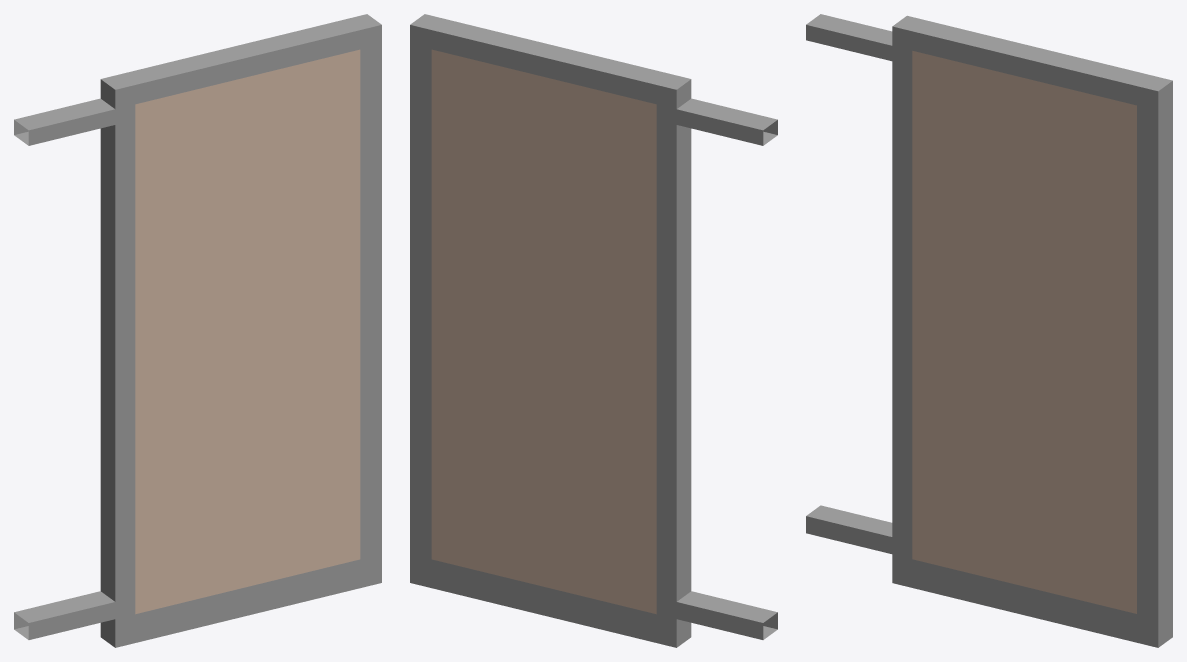
Rendered from entrop_wall_sign_1x1_03_LOD0.fbx.
The picture shows the model from 3 angles, left to right: view 1: azimuth 30°, elevation 25°; view 2: azimuth 150°, elevation 25°; view 3: azimuth 330°, elevation 25°; orthographic projection.
Parts seen in each view (by area): view 1: billboard02; view 2: billboard02; view 3: billboard02.
Boxes of the visible parts, left/top/right/bottom form: billboard02: left=14, top=14, right=381, bottom=647; billboard02: left=410, top=14, right=777, bottom=647; billboard02: left=806, top=14, right=1172, bottom=647.
Bounding box in the file's own units: 1.32 × 2 × 0.0958.
